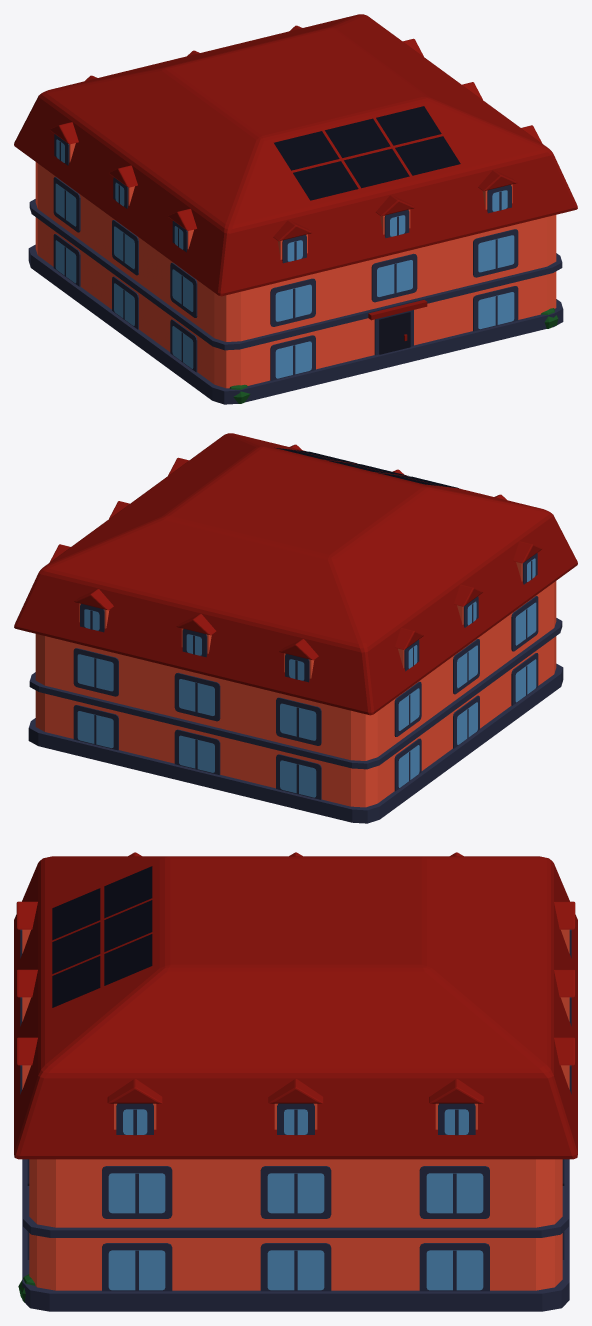
File: house-2x2-2f-mansard-c-solar.glb
3 renders of one model, top to bottom at view 1: azimuth 30°, elevation 25°; view 2: azimuth 150°, elevation 25°; view 3: azimuth 270°, elevation 25°, orthographic. The views are drawn at different scales.
Visible parts, largest first — view 1: house-2x2-2f-mansard-c-solar; view 2: house-2x2-2f-mansard-c-solar; view 3: house-2x2-2f-mansard-c-solar.
Part boxes in pixels (box(x1,y1,x2,y2)): house-2x2-2f-mansard-c-solar: box(14, 14, 577, 404); house-2x2-2f-mansard-c-solar: box(14, 433, 577, 823); house-2x2-2f-mansard-c-solar: box(14, 852, 577, 1311).
Bounding box in the file's own units: 1.99 × 1.11 × 1.99.
1 material, 1 textured.
